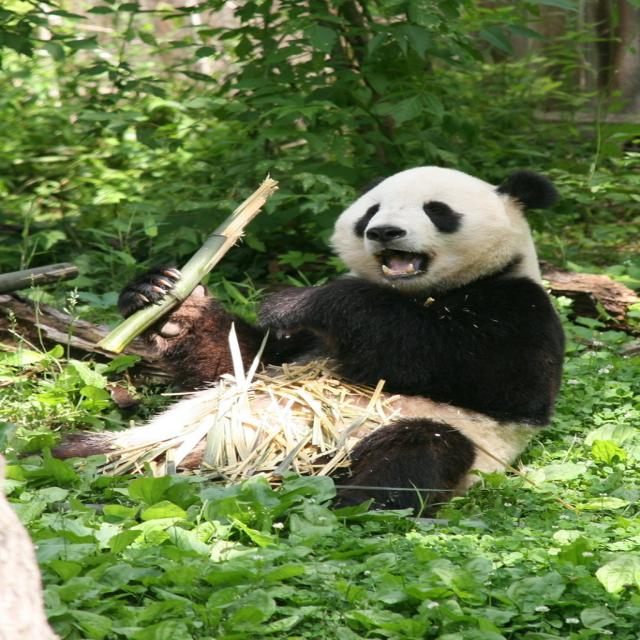panda: (36, 160, 570, 522)
